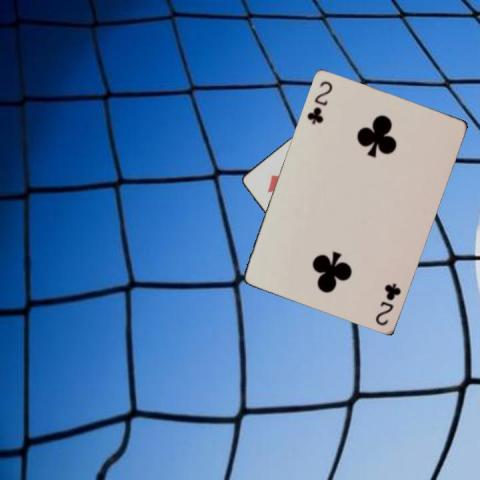2c: (303, 77, 334, 126), (372, 279, 402, 327)
